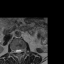CCS_normal: (17, 47, 19, 55)
LFS_normal: (21, 47, 23, 53)
LLS_normal: (19, 47, 21, 54)
RFS_normal: (13, 48, 15, 55)
RLS_normal: (15, 47, 17, 55)
